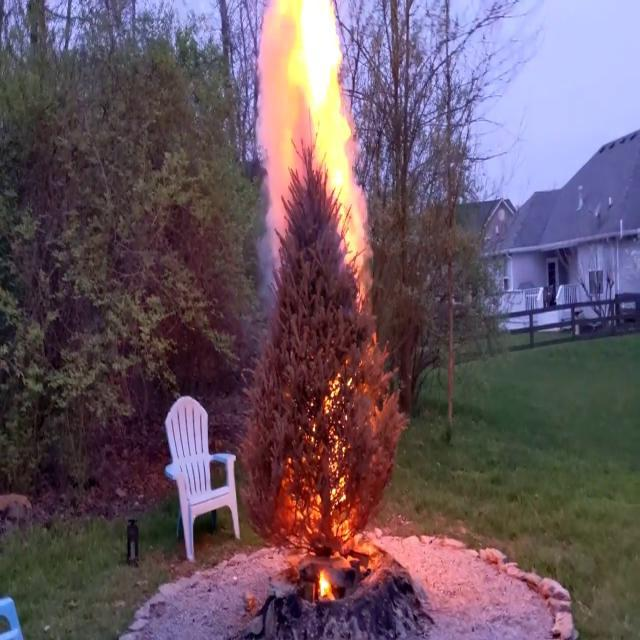Fire: (250, 0, 368, 276), (290, 369, 350, 554), (314, 566, 334, 600)
